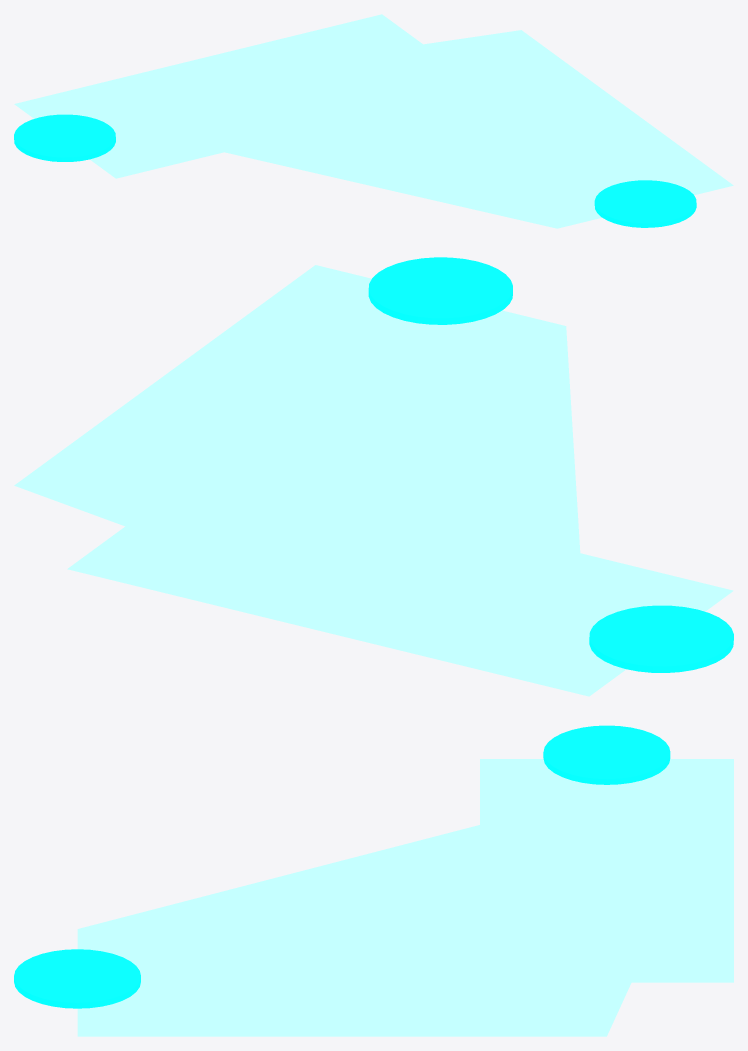
The model's file is corner_active.glb.
3 views of the same model, one above another, from view 1: azimuth 30°, elevation 25°; view 2: azimuth 150°, elevation 25°; view 3: azimuth 270°, elevation 25° (orthographic). The views are drawn at different scales.
Parts seen in each view (by area): view 1: Corner_Trace, Via_Bottom, Via_Left; view 2: Corner_Trace, Via_Left, Via_Bottom; view 3: Corner_Trace, Via_Bottom, Via_Left.
Part boxes in pixels (box(x1,y1,x2,y2)): Corner_Trace: box(14, 14, 733, 228); Via_Bottom: box(594, 180, 696, 227); Via_Left: box(14, 114, 115, 161); Corner_Trace: box(14, 265, 733, 696); Via_Left: box(589, 605, 733, 672); Via_Bottom: box(368, 257, 512, 324); Corner_Trace: box(77, 759, 733, 1036); Via_Bottom: box(14, 949, 140, 1008); Via_Left: box(543, 725, 670, 784).
Bounding box in the file's own units: 0.68 × 0.007 × 0.68.
